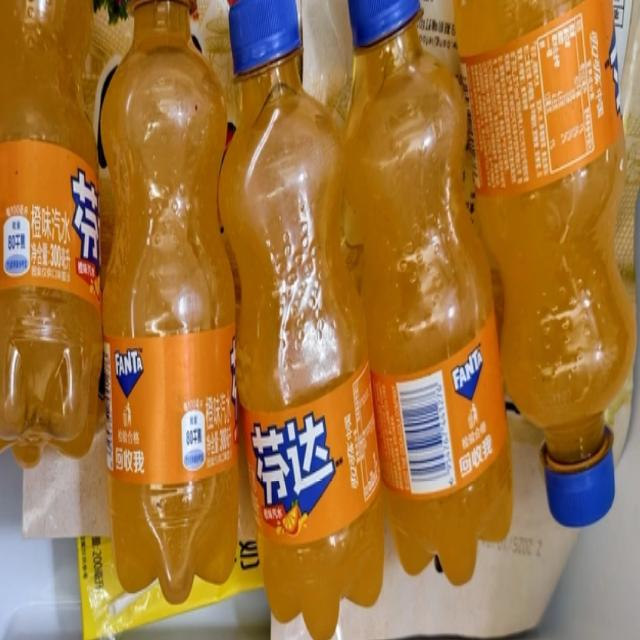orange: (252, 413, 344, 540), (68, 163, 106, 289)
